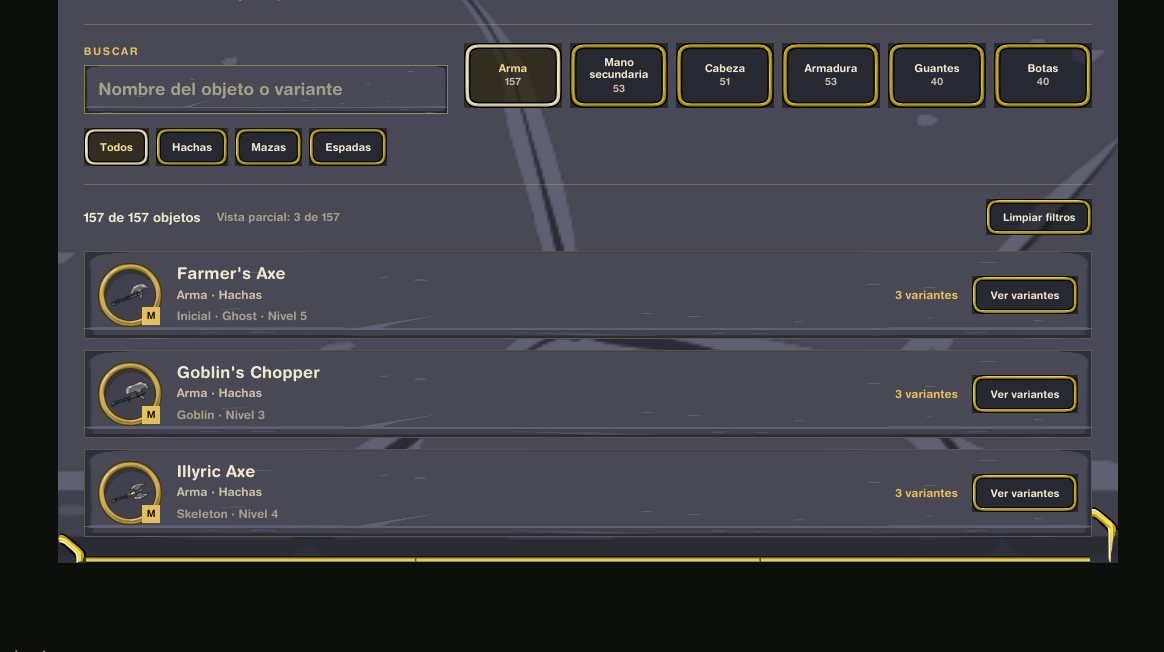
Test: ArmoryPage › filters by subtype and writes the filter to the URL
(page scrolled)
Click the button "Mazas": click(269, 147) left=235, top=128, right=302, bottom=166
(page scrolled)
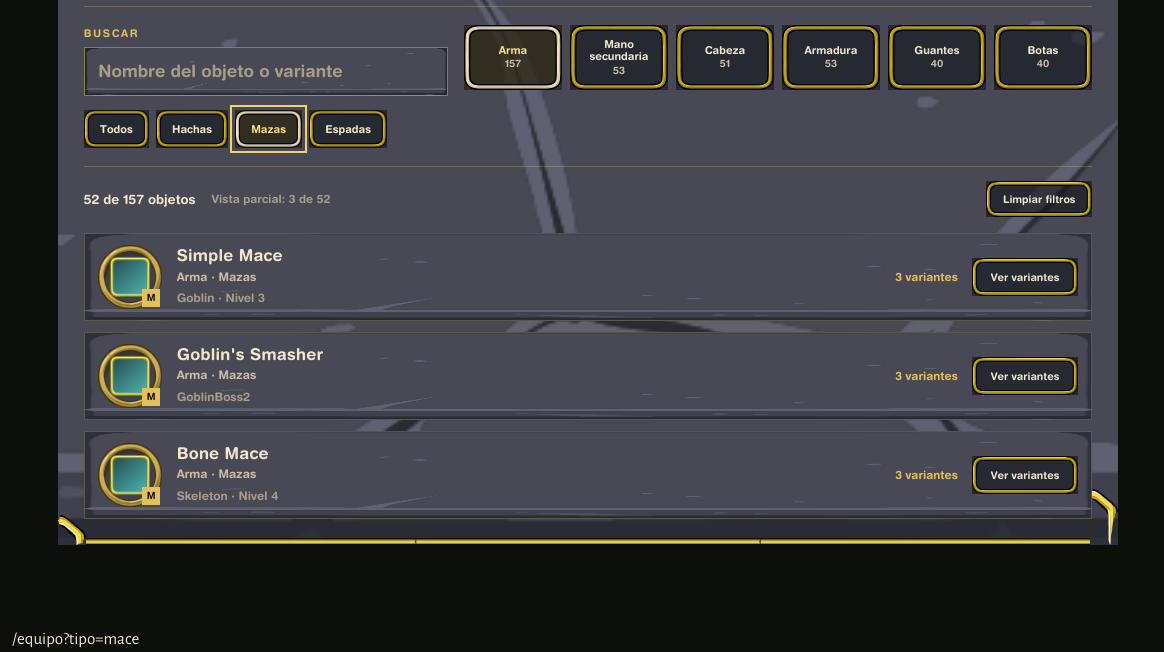
Now the heading "Simple Mace" is shown, box left=177, top=245, right=283, bottom=265
Now the heading "Farmer's Axe" is gone
Now the text with test id "location" reads "/equipo?tipo=mace", box left=12, top=630, right=139, bottom=647
